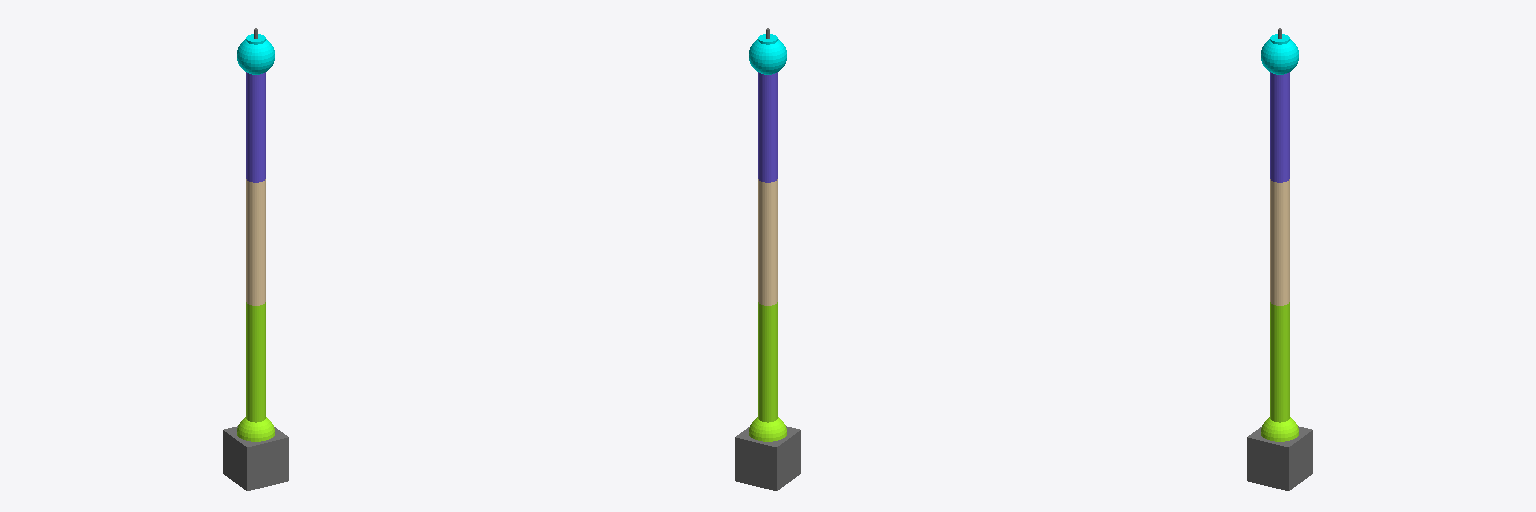
robot.urdf — test_robot:
<?xml version="1.0" ?>
<robot name="test_robot">
    <link name="base_link">
        <inertial>
            <mass value="1.0"/>
            <inertia ixx="0.010416666666666666" iyy="0.010416666666666666" izz="0.010416666666666666" ixy="0.0" ixz="0.0" iyz="0.0"/>
            <origin xyz="0 0 0" rpy="0 0 0"/>
        </inertial>
        <visual>
            <origin xyz="0 0 0" rpy="0 0 0"/>
            <geometry>
                <box size="0.25 0.25 0.25"/>
            </geometry>
            <material name="gray">
                <color rgba="0.5 0.5 0.5 1"/>
            </material>
        </visual>
    </link>
    <joint name="sph_joint_x_1" type="revolute">
        <parent link="base_link"/>
        <child link="sph_link_x_1"/>
        <origin xyz="0 0 0.125" rpy="0 0 0"/>
        <axis xyz="1 0 0"/>
        <limit lower="-3.14" upper="3.14" effort="10" velocity="1"/>
    </joint>
    <link name="sph_link_x_1">
        <inertial>
            <mass value="0.001"/>
            <inertia ixx="4.000000000000001e-06" iyy="4.000000000000001e-06" izz="4.000000000000001e-06" ixy="0.0" ixz="0.0" iyz="0.0"/>
            <origin xyz="0 0 0" rpy="0 0 0"/>
        </inertial>
        <visual>
            <origin xyz="0 0 0" rpy="0 0 0"/>
            <geometry>
                <sphere radius="0.1"/>
            </geometry>
            <material name="greenyellow">
                <color rgba="0.6784313725490196 1.0 0.1843137254901961 1.0"/>
            </material>
        </visual>
    </link>
    <joint name="sph_joint_y_1" type="revolute">
        <parent link="sph_link_x_1"/>
        <child link="sph_link_y_1"/>
        <origin xyz="0 0 0" rpy="0 0 0"/>
        <axis xyz="0 1 0"/>
        <limit lower="-3.14" upper="3.14" effort="10" velocity="1"/>
    </joint>
    <link name="sph_link_y_1">
        <inertial>
            <mass value="0.001"/>
            <inertia ixx="4.000000000000001e-06" iyy="4.000000000000001e-06" izz="4.000000000000001e-06" ixy="0.0" ixz="0.0" iyz="0.0"/>
            <origin xyz="0 0 0" rpy="0 0 0"/>
        </inertial>
        <visual>
            <origin xyz="0 0 0" rpy="0 0 0"/>
            <geometry>
                <sphere radius="0.1"/>
            </geometry>
            <material name="greenyellow">
                <color rgba="0.6784313725490196 1.0 0.1843137254901961 1.0"/>
            </material>
        </visual>
    </link>
    <joint name="sph_joint_z_1" type="revolute">
        <parent link="sph_link_y_1"/>
        <child link="sph_link_z_1"/>
        <origin xyz="0 0 0" rpy="0 0 0"/>
        <axis xyz="0 0 1"/>
        <limit lower="-3.14" upper="3.14" effort="10" velocity="1"/>
    </joint>
    <link name="sph_link_z_1">
        <inertial>
            <mass value="0.001"/>
            <inertia ixx="4.000000000000001e-06" iyy="4.000000000000001e-06" izz="4.000000000000001e-06" ixy="0.0" ixz="0.0" iyz="0.0"/>
            <origin xyz="0 0 0" rpy="0 0 0"/>
        </inertial>
        <visual>
            <origin xyz="0 0 0" rpy="0 0 0"/>
            <geometry>
                <sphere radius="0.1"/>
            </geometry>
            <material name="greenyellow">
                <color rgba="0.6784313725490196 1.0 0.1843137254901961 1.0"/>
            </material>
        </visual>
    </link>
    <joint name="joint0" type="fixed">
        <parent link="sph_link_z_1"/>
        <child link="link0"/>
        <origin xyz="0 0 0" rpy="0 0 0"/>
    </joint>
    <link name="link0">
        <inertial>
            <mass value="1.0"/>
            <inertia ixx="0.047499999999999994" iyy="0.047499999999999994" izz="0.0012500000000000002" ixy="0.0" ixz="0.0" iyz="0.0"/>
            <origin xyz="0 0 0.375" rpy="0 0 0"/>
        </inertial>
        <visual>
            <origin xyz="0 0 0.375" rpy="0 0 0"/>
            <geometry>
                <cylinder length="0.75" radius="0.05"/>
            </geometry>
            <material name="greenyellow">
                <color rgba="0.6784313725490196 1.0 0.1843137254901961 1.0"/>
            </material>
        </visual>
        <collision>
            <origin xyz="0 0 0.375" rpy="0 0 0"/>
            <geometry>
                <cylinder length="0.75" radius="0.05"/>
            </geometry>
        </collision>
    </link>
    <joint name="joint1" type="prismatic">
        <parent link="link0"/>
        <child link="link1"/>
        <origin xyz="0 0 0.75" rpy="0 0 0"/>
        <axis xyz="0 1 0"/>
        <limit lower="-0.5" upper="0.5" effort="10" velocity="1"/>
    </joint>
    <link name="link1">
        <inertial>
            <mass value="1.0"/>
            <inertia ixx="0.041458333333333326" iyy="0.041458333333333326" izz="0.0012500000000000002" ixy="0.0" ixz="0.0" iyz="0.0"/>
            <origin xyz="0 0 0.35" rpy="0 0 0"/>
        </inertial>
        <visual>
            <origin xyz="0 0 0.35" rpy="0 0 0"/>
            <geometry>
                <cylinder length="0.7" radius="0.05"/>
            </geometry>
            <material name="moccasin">
                <color rgba="1.0 0.8941176470588236 0.7098039215686275 1.0"/>
            </material>
        </visual>
        <collision>
            <origin xyz="0 0 0.35" rpy="0 0 0"/>
            <geometry>
                <cylinder length="0.7" radius="0.05"/>
            </geometry>
        </collision>
    </link>
    <joint name="joint2" type="prismatic">
        <parent link="link1"/>
        <child link="link2"/>
        <origin xyz="0 0 0.7" rpy="0 0 0"/>
        <axis xyz="0 0 1"/>
        <limit lower="-0.5" upper="0.5" effort="10" velocity="1"/>
    </joint>
    <link name="link2">
        <inertial>
            <mass value="1.0"/>
            <inertia ixx="0.041458333333333326" iyy="0.041458333333333326" izz="0.0012500000000000002" ixy="0.0" ixz="0.0" iyz="0.0"/>
            <origin xyz="0 0 0.35" rpy="0 0 0"/>
        </inertial>
        <visual>
            <origin xyz="0 0 0.35" rpy="0 0 0"/>
            <geometry>
                <cylinder length="0.7" radius="0.05"/>
            </geometry>
            <material name="mediumslateblue">
                <color rgba="0.4823529411764706 0.40784313725490196 0.9333333333333333 1.0"/>
            </material>
        </visual>
        <collision>
            <origin xyz="0 0 0.35" rpy="0 0 0"/>
            <geometry>
                <cylinder length="0.7" radius="0.05"/>
            </geometry>
        </collision>
    </link>
    <joint name="sph_joint_x_2" type="revolute">
        <parent link="link2"/>
        <child link="sph_link_x_2"/>
        <origin xyz="0 0 0.7" rpy="0 0 0"/>
        <axis xyz="1 0 0"/>
        <limit lower="-3.14" upper="3.14" effort="10" velocity="1"/>
    </joint>
    <link name="sph_link_x_2">
        <inertial>
            <mass value="0.001"/>
            <inertia ixx="4.000000000000001e-06" iyy="4.000000000000001e-06" izz="4.000000000000001e-06" ixy="0.0" ixz="0.0" iyz="0.0"/>
            <origin xyz="0 0 0" rpy="0 0 0"/>
        </inertial>
        <visual>
            <origin xyz="0 0 0" rpy="0 0 0"/>
            <geometry>
                <sphere radius="0.1"/>
            </geometry>
            <material name="cyan">
                <color rgba="0.0 1.0 1.0 1.0"/>
            </material>
        </visual>
    </link>
    <joint name="sph_joint_y_2" type="revolute">
        <parent link="sph_link_x_2"/>
        <child link="sph_link_y_2"/>
        <origin xyz="0 0 0" rpy="0 0 0"/>
        <axis xyz="0 1 0"/>
        <limit lower="-3.14" upper="3.14" effort="10" velocity="1"/>
    </joint>
    <link name="sph_link_y_2">
        <inertial>
            <mass value="0.001"/>
            <inertia ixx="4.000000000000001e-06" iyy="4.000000000000001e-06" izz="4.000000000000001e-06" ixy="0.0" ixz="0.0" iyz="0.0"/>
            <origin xyz="0 0 0" rpy="0 0 0"/>
        </inertial>
        <visual>
            <origin xyz="0 0 0" rpy="0 0 0"/>
            <geometry>
                <sphere radius="0.1"/>
            </geometry>
            <material name="cyan">
                <color rgba="0.0 1.0 1.0 1.0"/>
            </material>
        </visual>
    </link>
    <joint name="sph_joint_z_2" type="revolute">
        <parent link="sph_link_y_2"/>
        <child link="sph_link_z_2"/>
        <origin xyz="0 0 0" rpy="0 0 0"/>
        <axis xyz="0 0 1"/>
        <limit lower="-3.14" upper="3.14" effort="10" velocity="1"/>
    </joint>
    <link name="sph_link_z_2">
        <inertial>
            <mass value="0.001"/>
            <inertia ixx="4.000000000000001e-06" iyy="4.000000000000001e-06" izz="4.000000000000001e-06" ixy="0.0" ixz="0.0" iyz="0.0"/>
            <origin xyz="0 0 0" rpy="0 0 0"/>
        </inertial>
        <visual>
            <origin xyz="0 0 0" rpy="0 0 0"/>
            <geometry>
                <sphere radius="0.1"/>
            </geometry>
            <material name="cyan">
                <color rgba="0.0 1.0 1.0 1.0"/>
            </material>
        </visual>
    </link>
    <joint name="joint3" type="fixed">
        <parent link="sph_link_z_2"/>
        <child link="link3"/>
        <origin xyz="0 0 0" rpy="0 0 0"/>
    </joint>
    <link name="link3">
        <inertial>
            <mass value="1.0"/>
            <inertia ixx="0.0014583333333333334" iyy="0.0014583333333333334" izz="0.0012500000000000002" ixy="0.0" ixz="0.0" iyz="0.0"/>
            <origin xyz="0 0 0.05" rpy="0 0 0"/>
        </inertial>
        <visual>
            <origin xyz="0 0 0.05" rpy="0 0 0"/>
            <geometry>
                <cylinder length="0.1" radius="0.05"/>
            </geometry>
            <material name="cyan">
                <color rgba="0.0 1.0 1.0 1.0"/>
            </material>
        </visual>
        <collision>
            <origin xyz="0 0 0.05" rpy="0 0 0"/>
            <geometry>
                <cylinder length="0.1" radius="0.05"/>
            </geometry>
        </collision>
    </link>
    <joint name="probe_joint" type="fixed">
        <parent link="link3"/>
        <child link="probe_link"/>
        <origin xyz="0 0 0.1" rpy="0 0 0"/>
    </joint>
    <link name="probe_link">
        <inertial>
            <mass value="0.0"/>
            <inertia ixx="0.0" iyy="0.0" izz="0.0" ixy="0.0" ixz="0.0" iyz="0.0"/>
            <origin xyz="0 0 0" rpy="0 0 0"/>
        </inertial>
        <visual>
            <origin xyz="0 0 0" rpy="0 0 0"/>
            <geometry>
                <cylinder length="0.1" radius="0.01"/>
            </geometry>
            <material name="gray">
                <color rgba="0.5 0.5 0.5 1"/>
            </material>
        </visual>
    </link>
    <joint name="end_effector_joint" type="fixed">
        <parent link="probe_link"/>
        <child link="end_effector"/>
        <origin xyz="0 0 0.1" rpy="0 0 0"/>
    </joint>
    <link name="end_effector">
        <inertial>
            <mass value="0.0"/>
            <inertia ixx="0.0" iyy="0.0" izz="0.0" ixy="0.0" ixz="0.0" iyz="0.0"/>
            <origin xyz="0 0 0" rpy="0 0 0"/>
        </inertial>
        <visual>
            <origin xyz="0 0 0" rpy="0 0 0"/>
            <geometry>
                <cylinder length="0" radius="0"/>
            </geometry>
            <material name="gray">
                <color rgba="0.5 0.5 0.5 1"/>
            </material>
        </visual>
    </link>
</robot>

--- Render facts (derived) ---
Views: 3 orthographic renders of the robot side by side, from view 1: azimuth 30°, elevation 25°; view 2: azimuth 150°, elevation 25°; view 3: azimuth 330°, elevation 25°.
Model test_robot with 13 links and 12 joints (6 revolute, 2 prismatic, 4 fixed), rooted at base_link, posed all joints at 0.
Visible links, largest first — view 1: base_link, link1, link0, link2, sph_link_x_2, sph_link_x_1; view 2: base_link, link1, link0, link2, sph_link_x_2, sph_link_x_1; view 3: base_link, link1, link0, link2, sph_link_x_2, sph_link_x_1.
Boxes of the visible links, bbox=[...] form: base_link: bbox=[223, 426, 288, 490]; link1: bbox=[246, 179, 265, 305]; link0: bbox=[246, 302, 265, 422]; link2: bbox=[246, 72, 265, 182]; sph_link_x_2: bbox=[237, 39, 274, 74]; sph_link_x_1: bbox=[237, 417, 274, 441]; base_link: bbox=[735, 426, 800, 490]; link1: bbox=[758, 179, 777, 305]; link0: bbox=[758, 302, 777, 422]; link2: bbox=[758, 72, 777, 182]; sph_link_x_2: bbox=[749, 39, 786, 74]; sph_link_x_1: bbox=[749, 417, 786, 441]; base_link: bbox=[1247, 426, 1312, 490]; link1: bbox=[1270, 179, 1289, 305]; link0: bbox=[1270, 302, 1289, 422]; link2: bbox=[1270, 72, 1289, 182]; sph_link_x_2: bbox=[1261, 39, 1298, 74]; sph_link_x_1: bbox=[1261, 417, 1298, 441].
Size in the robot's own frame: 0.25 by 0.25 by 2.6 metres.
Geometry: primitives only (box / cylinder / sphere), no mesh files.